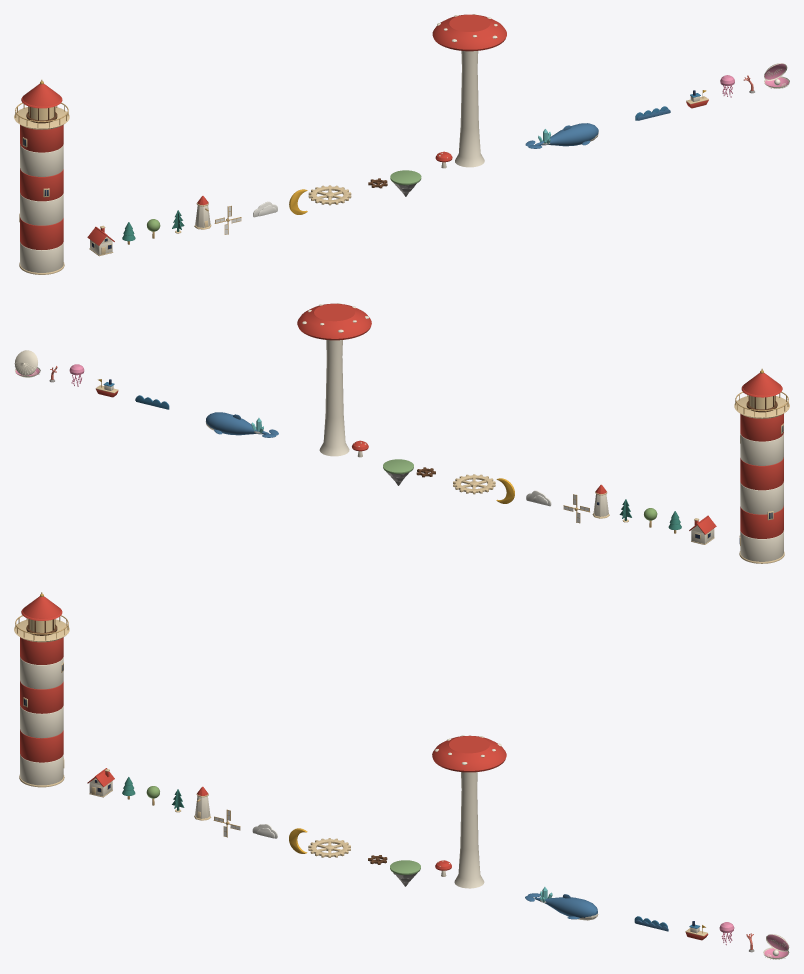
Rendered from props.glb.
3 renders of one model, top to bottom at view 1: azimuth 30°, elevation 25°; view 2: azimuth 150°, elevation 25°; view 3: azimuth 330°, elevation 25°, orthographic.
Parts seen in each view (by area): view 1: lighthouse, giant_mushroom, whale, gear_big, house, island, clam; view 2: lighthouse, giant_mushroom, whale, gear_big, clam, house, island; view 3: lighthouse, giant_mushroom, whale.
Part boxes in pixels (x1=…): lighthouse: x1=14, y1=79, x2=69, y2=274; giant_mushroom: x1=432, y1=14, x2=506, y2=167; whale: x1=525, y1=123, x2=598, y2=148; gear_big: x1=308, y1=185, x2=351, y2=205; house: x1=87, y1=225, x2=114, y2=256; island: x1=390, y1=170, x2=421, y2=196; clam: x1=764, y1=63, x2=789, y2=88; lighthouse: x1=734, y1=368, x2=789, y2=563; giant_mushroom: x1=297, y1=303, x2=371, y2=456; whale: x1=205, y1=412, x2=278, y2=437; gear_big: x1=453, y1=474, x2=495, y2=494; clam: x1=14, y1=350, x2=40, y2=377; house: x1=689, y1=515, x2=716, y2=544; island: x1=383, y1=459, x2=413, y2=485; lighthouse: x1=14, y1=592, x2=69, y2=787; giant_mushroom: x1=432, y1=735, x2=506, y2=888; whale: x1=525, y1=893, x2=598, y2=920.
Bounding box in the file's own units: 56.21 × 14.35 × 4.72.
